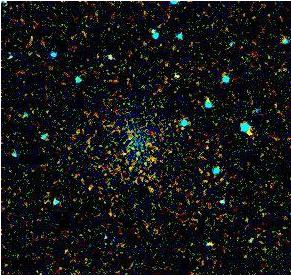star: (233, 116, 263, 146)
